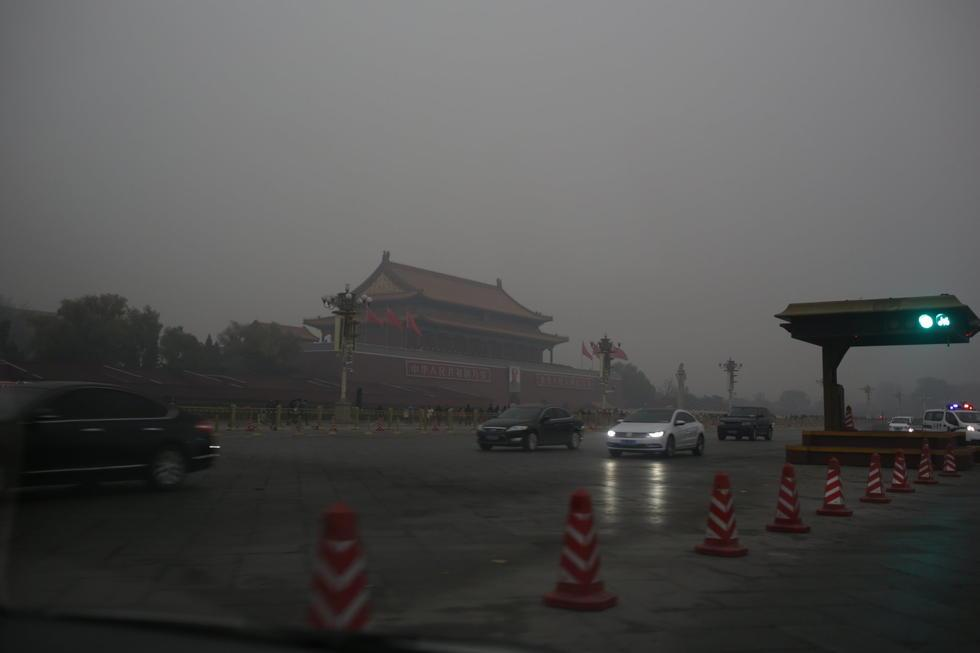car: (1, 382, 221, 489), (476, 404, 585, 452), (606, 408, 706, 459), (923, 401, 980, 446), (716, 405, 776, 441), (888, 416, 915, 435)
